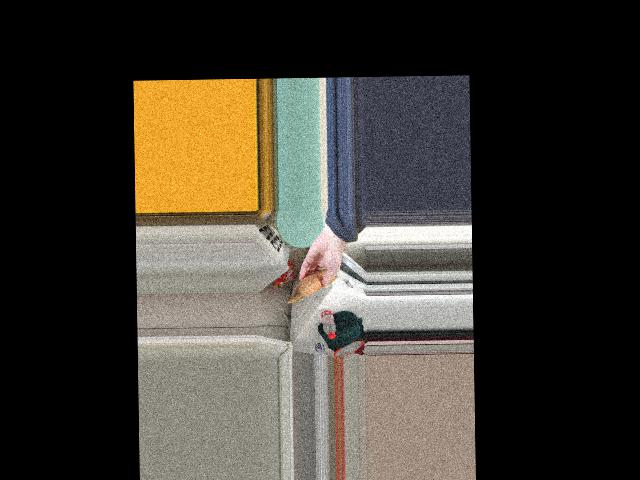sweet_potato: (300, 264, 333, 296)
